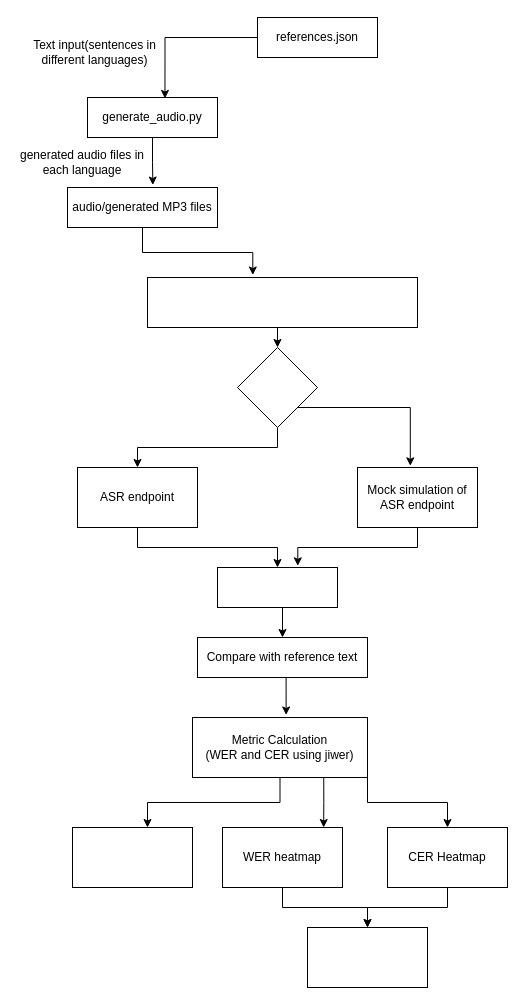
The diagram is 525 pixels wide and 1005 high, and some of its shapes have lost their labels. The centre of each missing label's shape, as x and y in pixels:
"asr_eval.py (Main evaluation script)" goes at (x=282, y=302).
"Evaluation visualization" goes at (x=367, y=957).
"mode select" goes at (x=277, y=387).
"Predicted Transcription" goes at (x=277, y=587).
"results/ report.csv" goes at (x=132, y=857).
